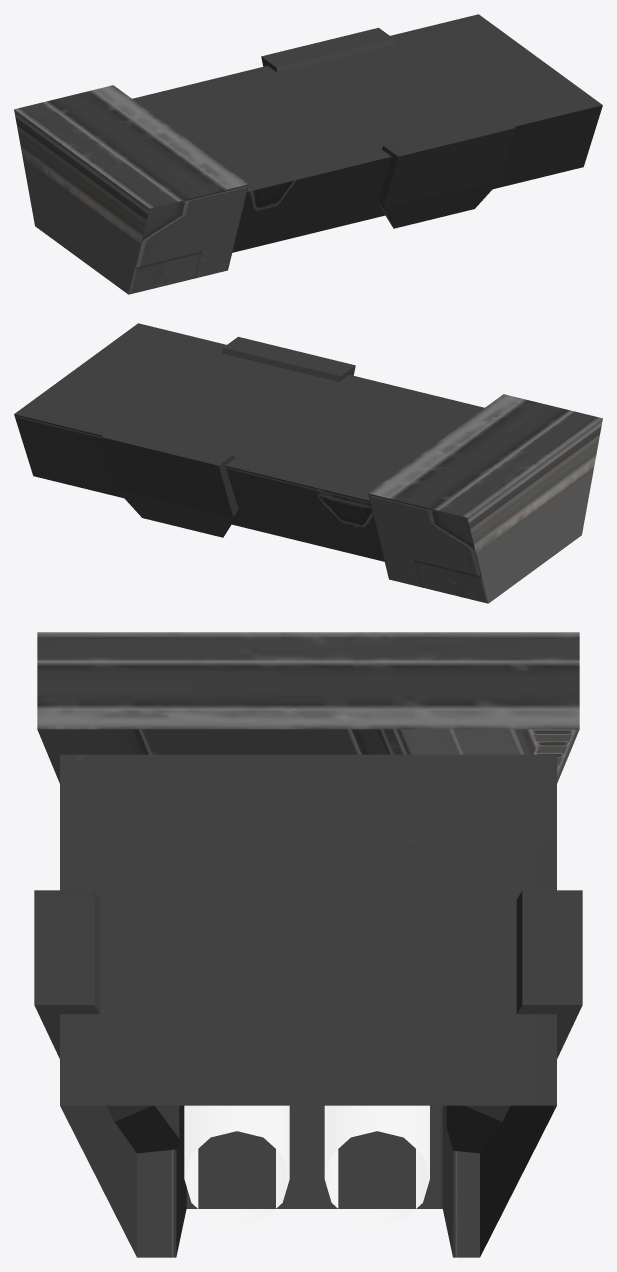
The model's file is Prop_Light_Small.glb.
3 views of the same model, one above another, from view 1: azimuth 30°, elevation 25°; view 2: azimuth 150°, elevation 25°; view 3: azimuth 270°, elevation 25° (orthographic). The views are drawn at different scales.
Parts seen in each view (by area): view 1: Prop_Light_Small; view 2: Prop_Light_Small; view 3: Prop_Light_Small.
Boxes of the visible parts, x1,y1,x2,y2 form: Prop_Light_Small: [14, 14, 602, 294]; Prop_Light_Small: [14, 323, 602, 603]; Prop_Light_Small: [34, 632, 582, 1257].
Size of the model in its own units: 0.8609 by 0.1819 by 0.4453.
2 materials, 1 textured.
